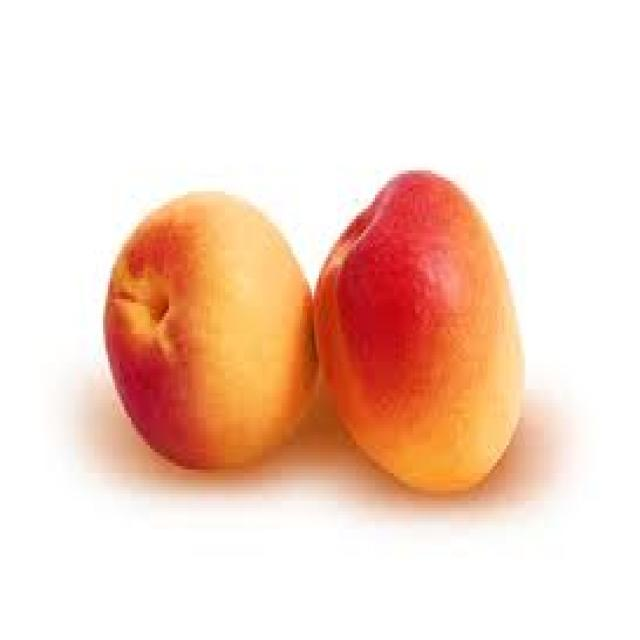kayisi: (73, 94, 574, 522)
